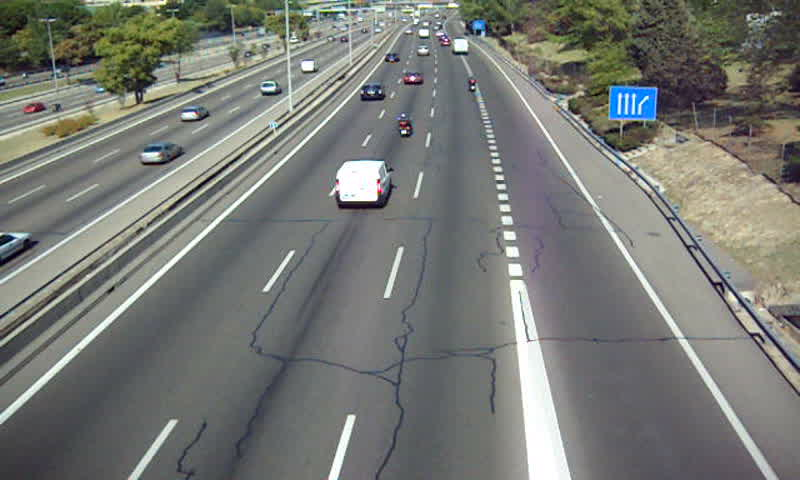car: (359, 81, 386, 102), (402, 71, 422, 85), (384, 51, 400, 64)
motorcycle: (396, 113, 412, 138), (466, 75, 476, 95)
van: (335, 160, 391, 210), (454, 38, 470, 56)
